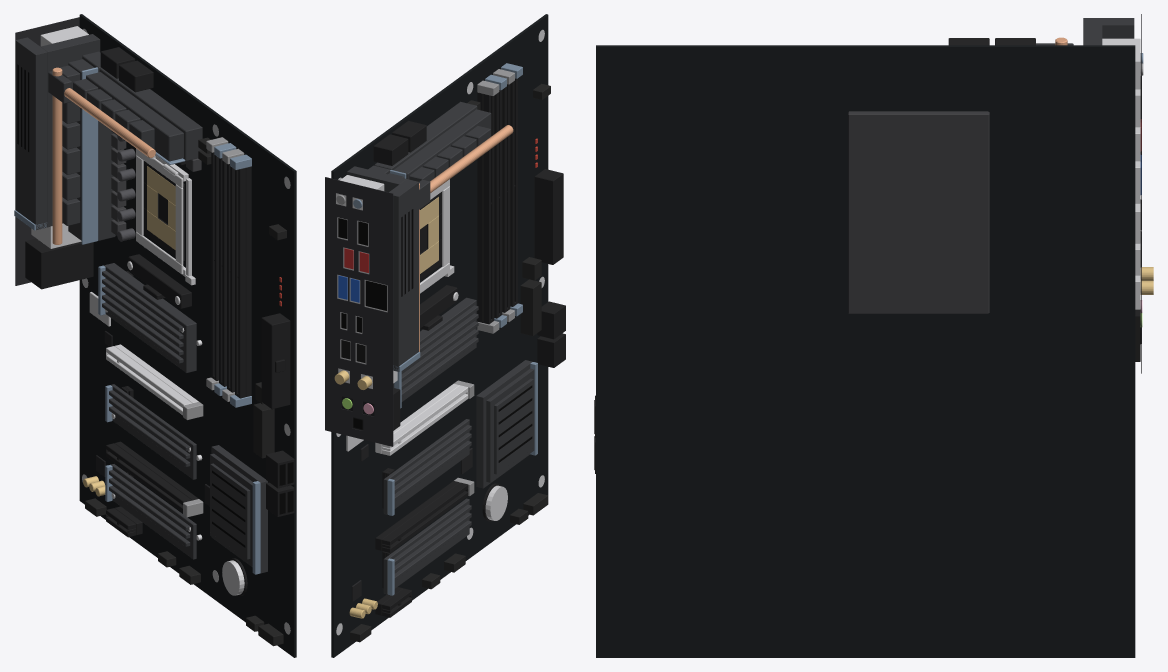
The model's file is MB_AM5_ATX01.glb.
3 renders of one model, left to right at view 1: azimuth 30°, elevation 25°; view 2: azimuth 150°, elevation 25°; view 3: azimuth 270°, elevation 25°, orthographic. The views are drawn at different scales.
Parts seen in each view (by area): view 1: PCB, VRM_Heatsink_Left, IO_Cover, VRM_Heatsink_Top, Chipset_Heatsink, M2_0_Heatsink, DIMM_B2, Rear_IO, M2_1_Heatsink, M2_2_Heatsink, Socket_AM5, Board_Components (+14 smaller); view 2: PCB, IO_Shield, Chipset_Heatsink, IO_Cover, VRM_Heatsink_Top, Rear_IO, M2_0_Heatsink, DIMM_A1, M2_2_Heatsink, M2_1_Heatsink, Headers, Power_ATX24 (+14 smaller); view 3: PCB, CPU_Backplate, Rear_IO, IO_Cover.
Boxes of the visible parts, box(x1,y1,x2,y2) form: PCB: box(79, 14, 296, 657); VRM_Heatsink_Left: box(48, 51, 115, 244); IO_Cover: box(14, 34, 100, 230); VRM_Heatsink_Top: box(64, 68, 202, 164); Chipset_Heatsink: box(210, 445, 267, 574); M2_0_Heatsink: box(98, 263, 196, 372); DIMM_B2: box(230, 154, 251, 407); Rear_IO: box(25, 26, 93, 289); M2_1_Heatsink: box(105, 384, 196, 479); M2_2_Heatsink: box(105, 464, 196, 559); Socket_AM5: box(143, 155, 195, 285); Board_Components: box(83, 130, 281, 506); PCB: box(331, 14, 548, 657); IO_Shield: box(325, 177, 393, 446); Chipset_Heatsink: box(476, 360, 537, 488); IO_Cover: box(347, 166, 420, 371); VRM_Heatsink_Top: box(374, 101, 513, 192); Rear_IO: box(334, 175, 400, 430); M2_0_Heatsink: box(393, 297, 478, 408); DIMM_A1: box(477, 80, 499, 333); M2_2_Heatsink: box(383, 498, 471, 595); M2_1_Heatsink: box(383, 419, 471, 515); Headers: box(350, 83, 550, 642); Power_ATX24: box(534, 169, 563, 264); PCB: box(596, 45, 1135, 657); CPU_Backplate: box(848, 111, 989, 313); Rear_IO: box(1102, 38, 1153, 361); IO_Cover: box(1083, 18, 1134, 45).
Bounding box in the file's own units: 0.048 × 0.305 × 0.2531.
